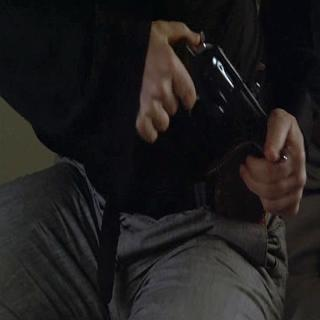gun: (129, 19, 287, 181)
